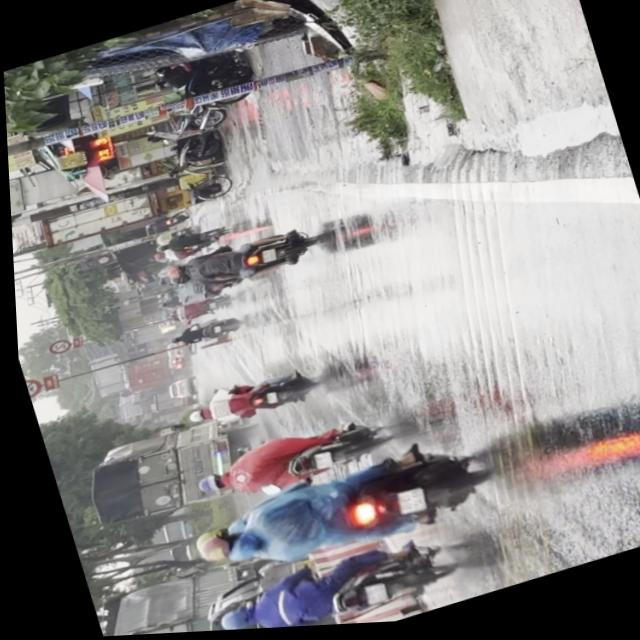helmet: (187, 531, 238, 570), (208, 607, 249, 633), (185, 527, 227, 552), (189, 473, 225, 499), (157, 264, 182, 284)
licenseplate: (173, 431, 497, 599), (199, 525, 469, 633), (182, 408, 400, 516), (151, 219, 325, 307)
nohelmet: (388, 490, 420, 520), (355, 585, 380, 609), (307, 453, 327, 473), (256, 250, 273, 265)
